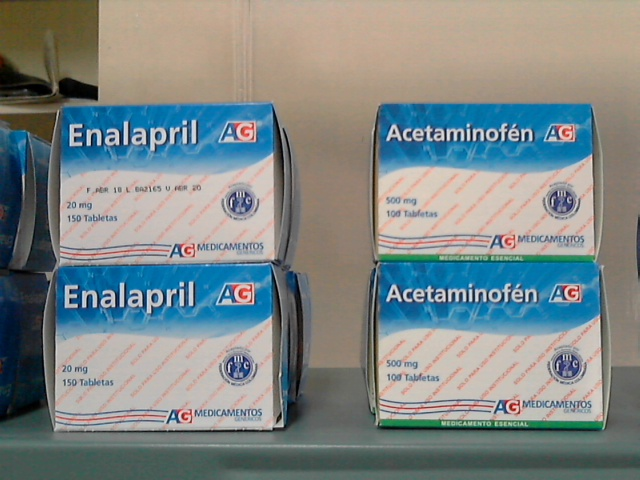AG: (379, 264, 603, 428), (56, 267, 274, 432), (379, 103, 595, 263), (60, 107, 276, 261)
